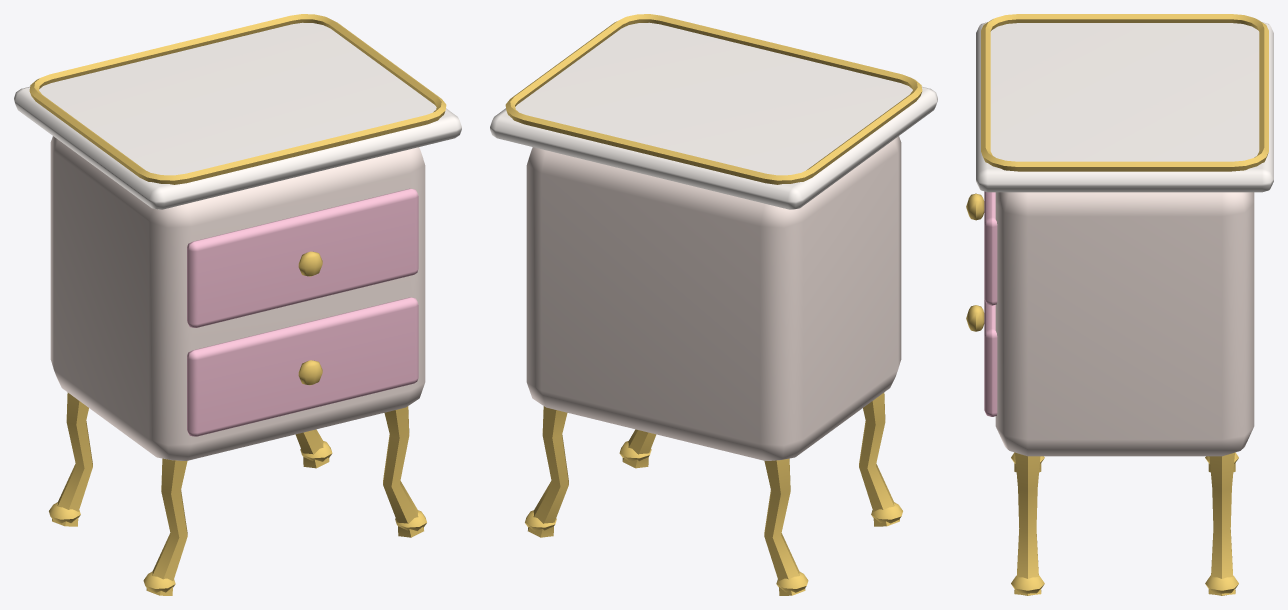
Rendered from nightstand_pink.glb.
3 renders of one model, left to right at view 1: azimuth 30°, elevation 25°; view 2: azimuth 150°, elevation 25°; view 3: azimuth 270°, elevation 25°, orthographic. The views are drawn at different scales.
Parts seen in each view (by area): view 1: nightstand_pink; view 2: nightstand_pink; view 3: nightstand_pink.
Boxes of the visible parts, box(x1,y1,x2,y2) form: nightstand_pink: box(14, 14, 461, 595); nightstand_pink: box(490, 14, 937, 595); nightstand_pink: box(966, 14, 1273, 595).
Size of the model in its own units: 0.57 by 0.7589 by 0.4754.
